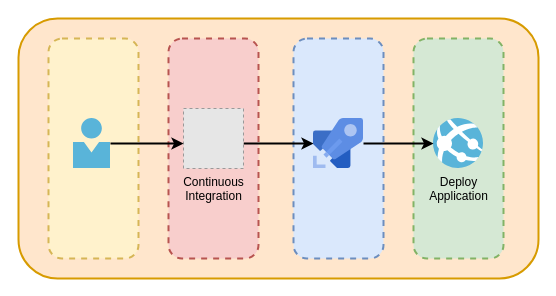
The diagram is 556 pixels wide and 296 high, and some of its shapes have lost their labels. Grey dashed boxes stand in for pictures. Each missing label, with the centre of its shape:
"Continuous Delivery" goes at point (338, 143).
"Dev Commit" goes at point (91, 143).
